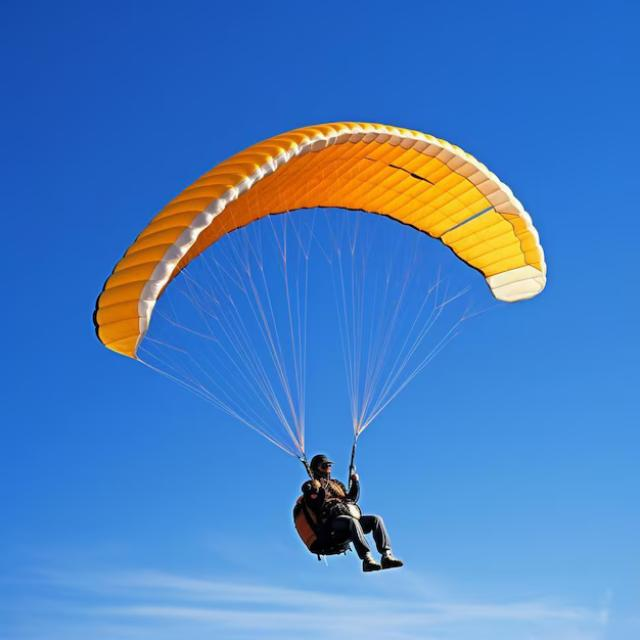paraglider: (91, 120, 547, 375)
